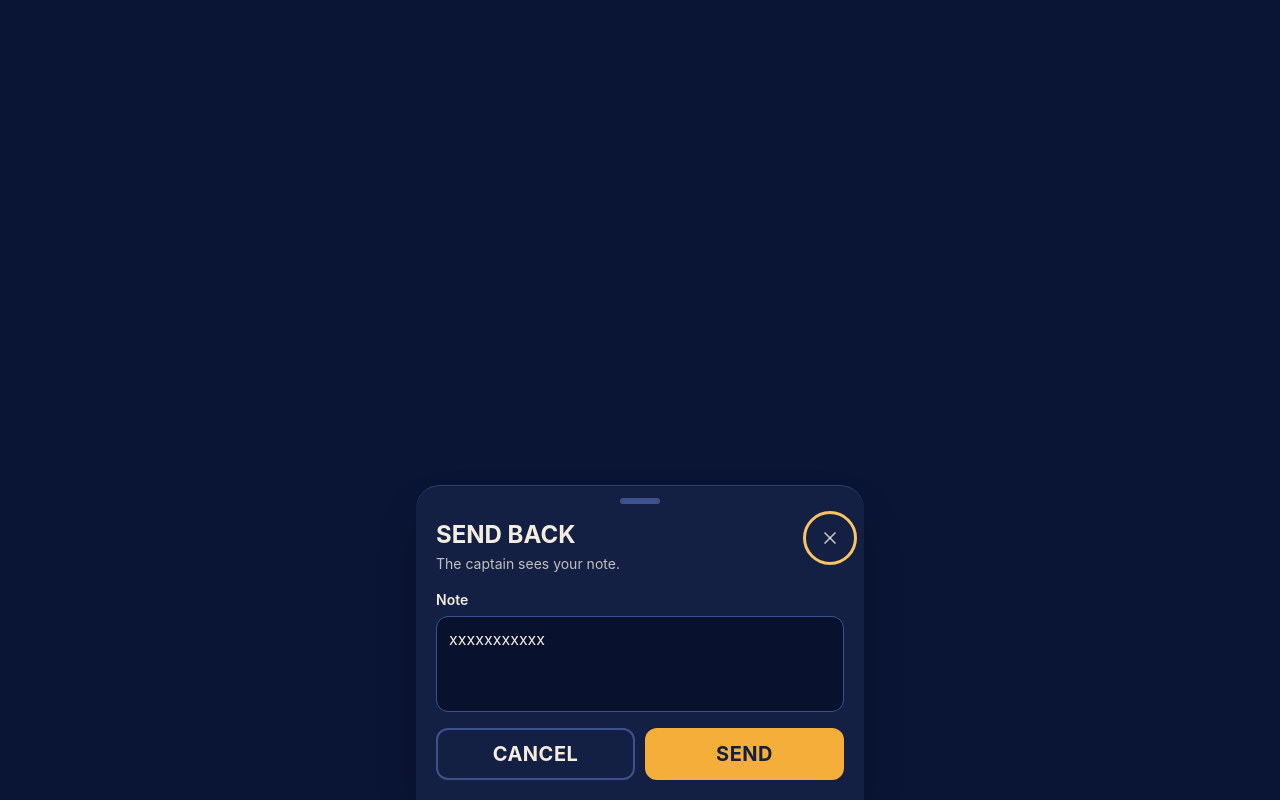
it: NoteSheet › refuses a note over the limit
Click the button "Send" at [744, 754], box x1=645 y1=728 x2=844 y2=780
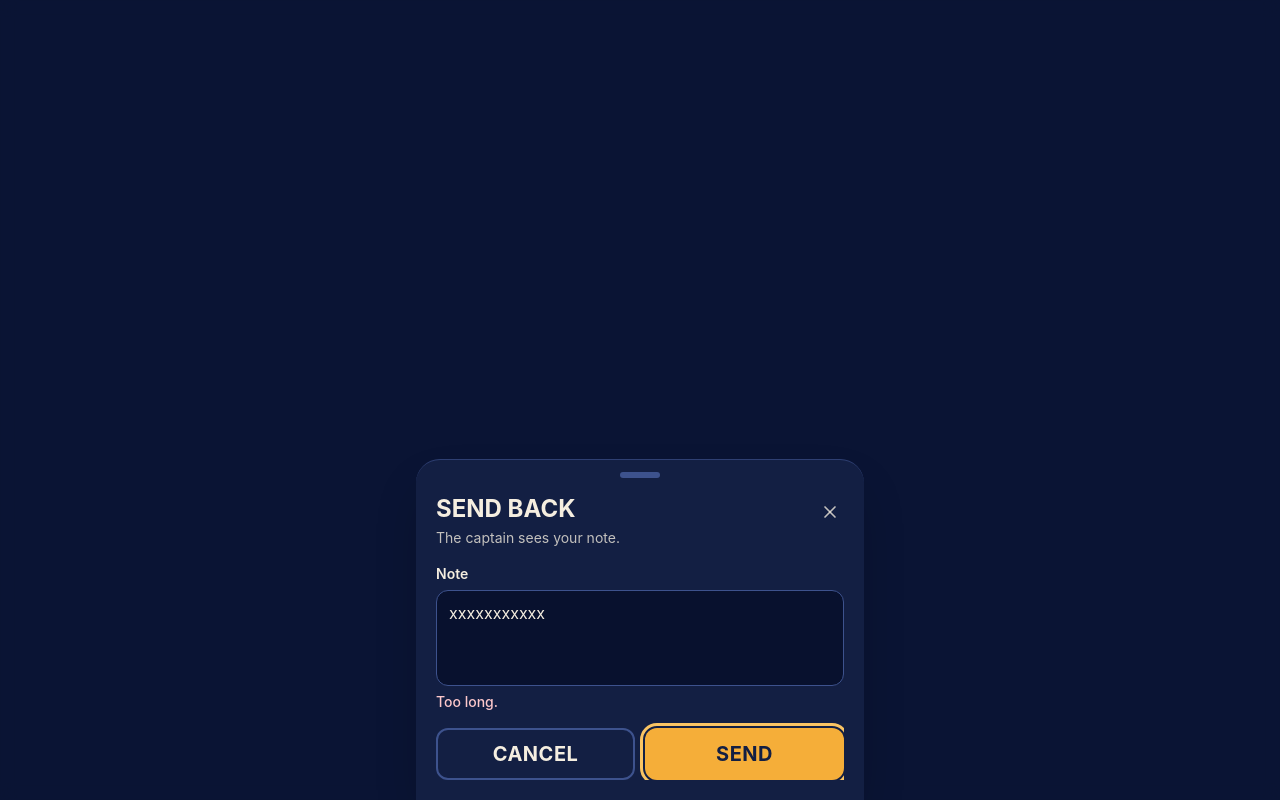
expect the message reads "Too long.": met, box x1=436 y1=693 x2=498 y2=710
